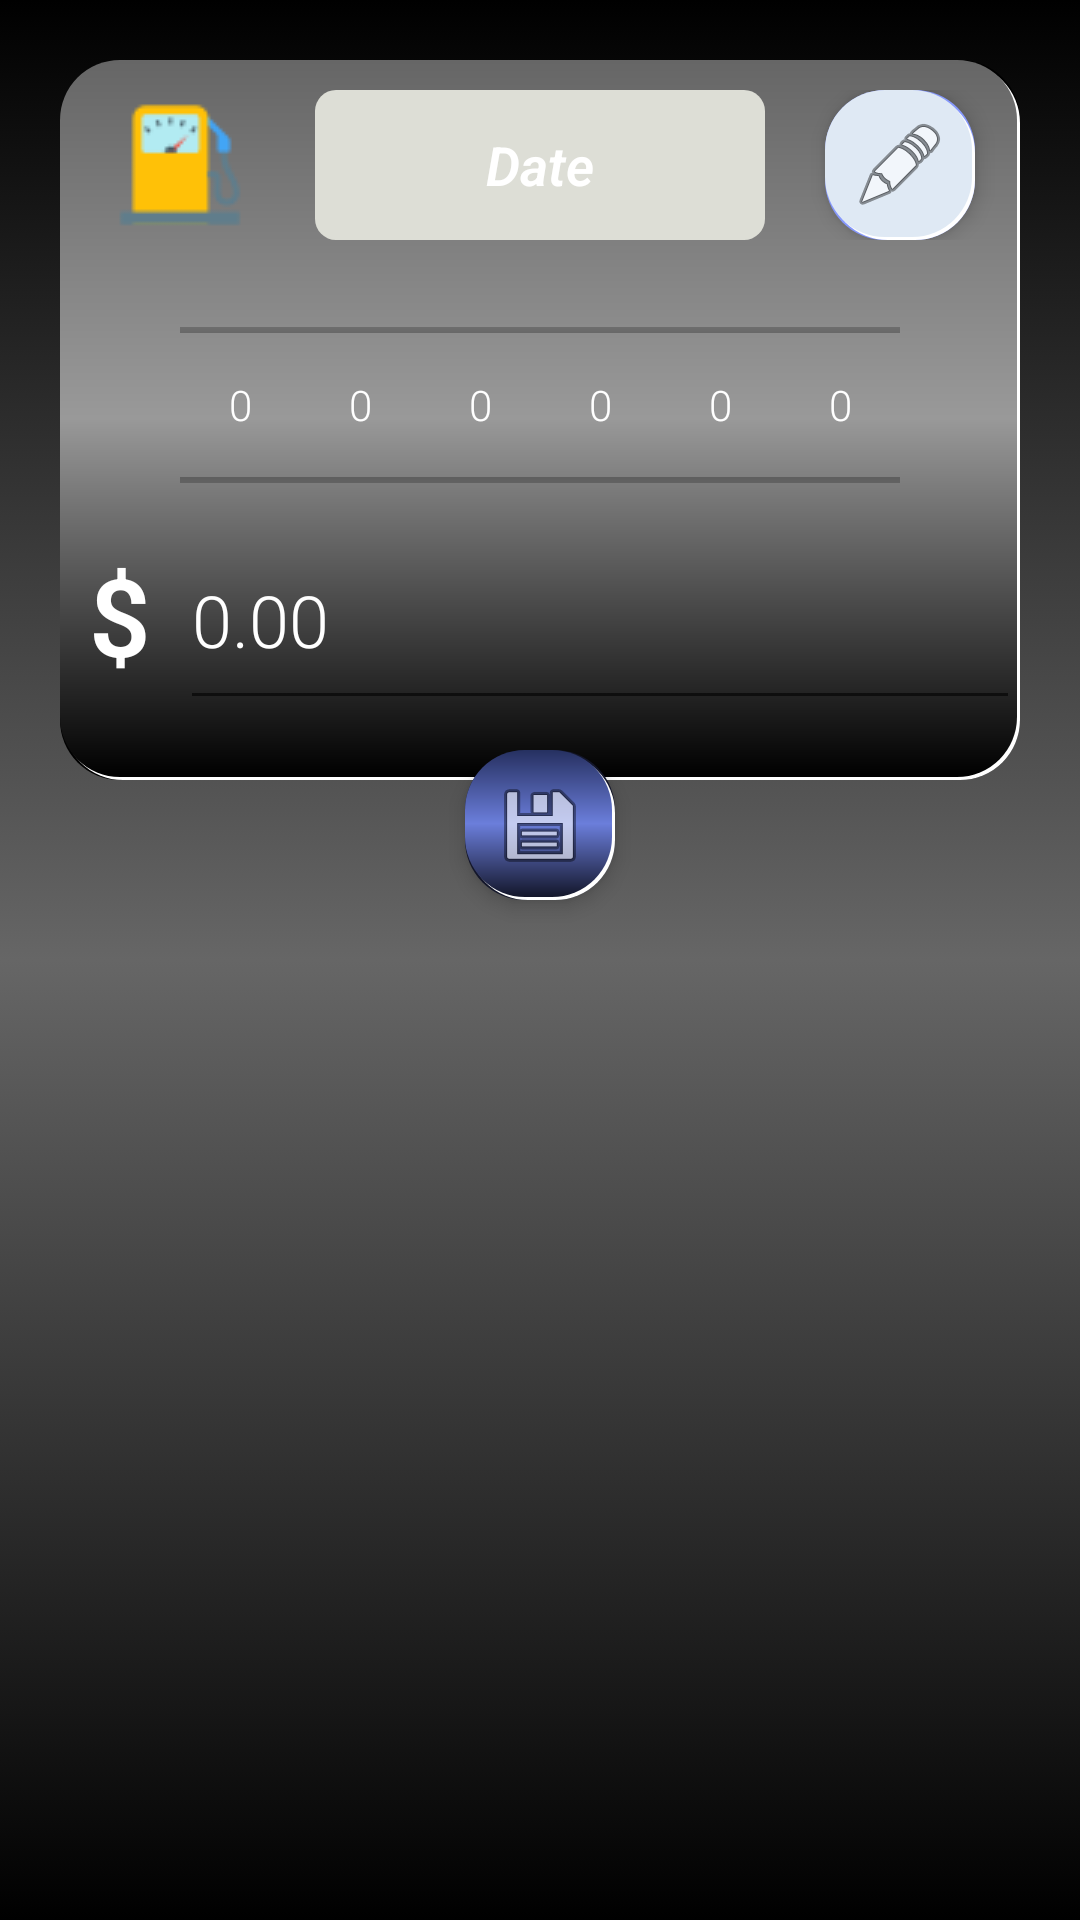

Icon click points for this 1080w x 1920h phone screenshot, format [x,y]:
edit: [900,165]
gasolinera: [180,164]
save: [540,825]
